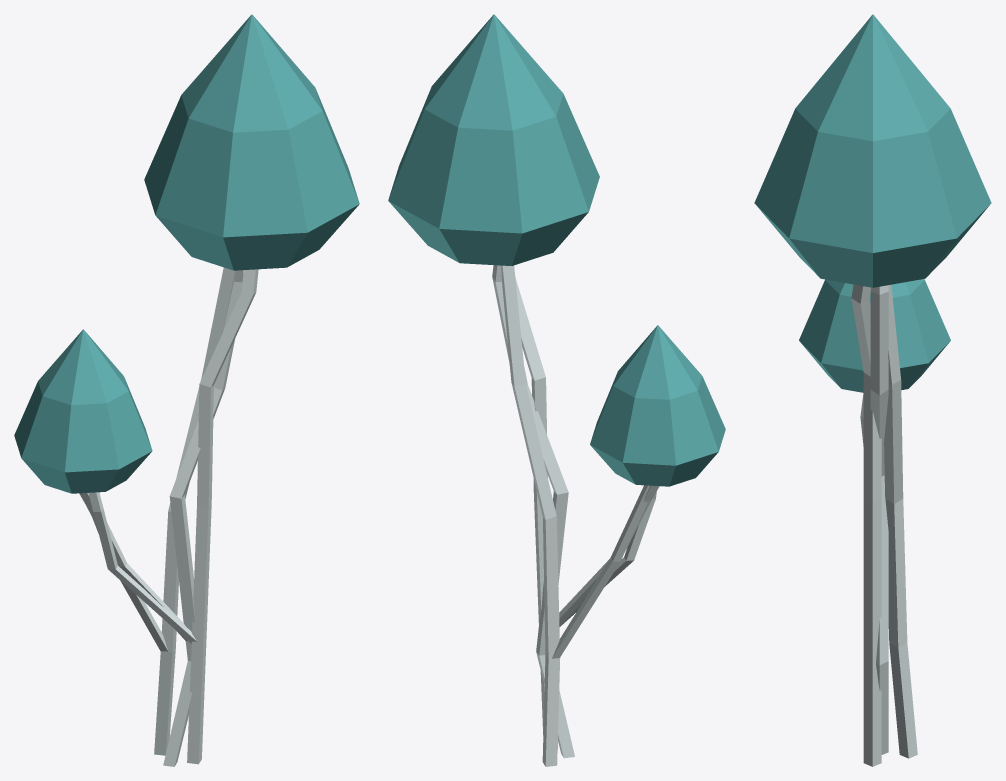
Rendered from TP_Tree02.fbx.
3 renders of one model, left to right at view 1: azimuth 30°, elevation 25°; view 2: azimuth 150°, elevation 25°; view 3: azimuth 270°, elevation 25°, orthographic. The views are drawn at different scales.
Parts seen in each view (by area): view 1: TP_Tree02; view 2: TP_Tree02; view 3: TP_Tree02.
Boxes of the visible parts, x1=… form: TP_Tree02: x1=14, y1=14, x2=359, y2=766; TP_Tree02: x1=388, y1=14, x2=725, y2=766; TP_Tree02: x1=754, y1=14, x2=991, y2=766.
Bounding box in the file's own units: 144 × 309 × 85.17.
1 material, 1 textured.
